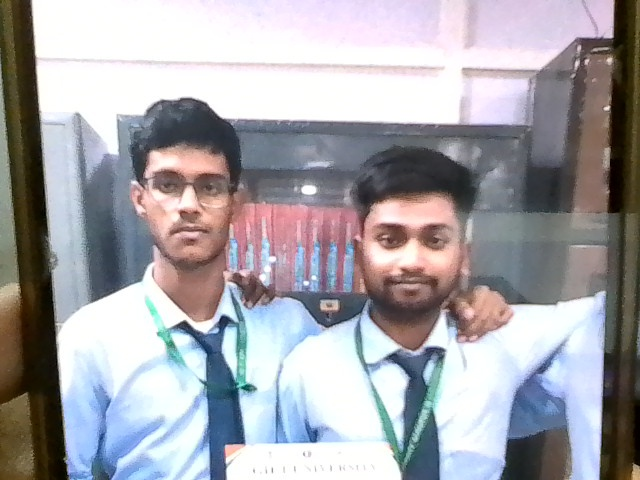real: (351, 160, 471, 330), (135, 115, 240, 264)
